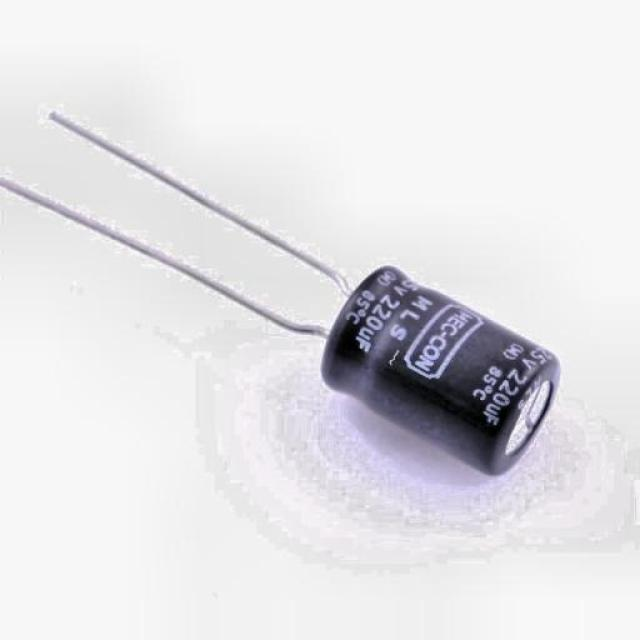Capacitor: (5, 90, 617, 537)
